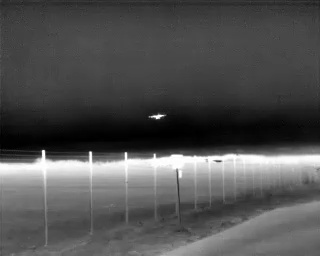AIRPLANE: (147, 111, 167, 122)
